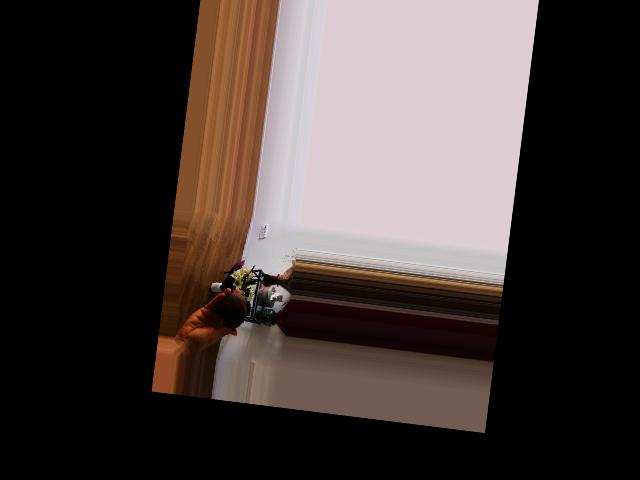beet: (200, 288, 252, 329)
